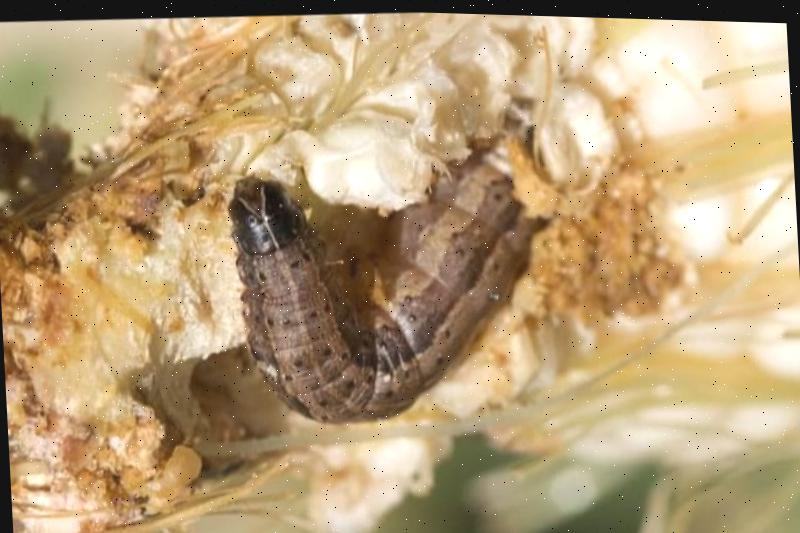fall-armyworm: (229, 55, 610, 421)
